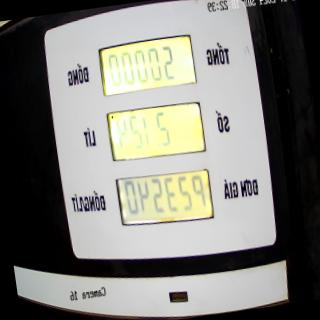screen: (92, 27, 218, 232)
